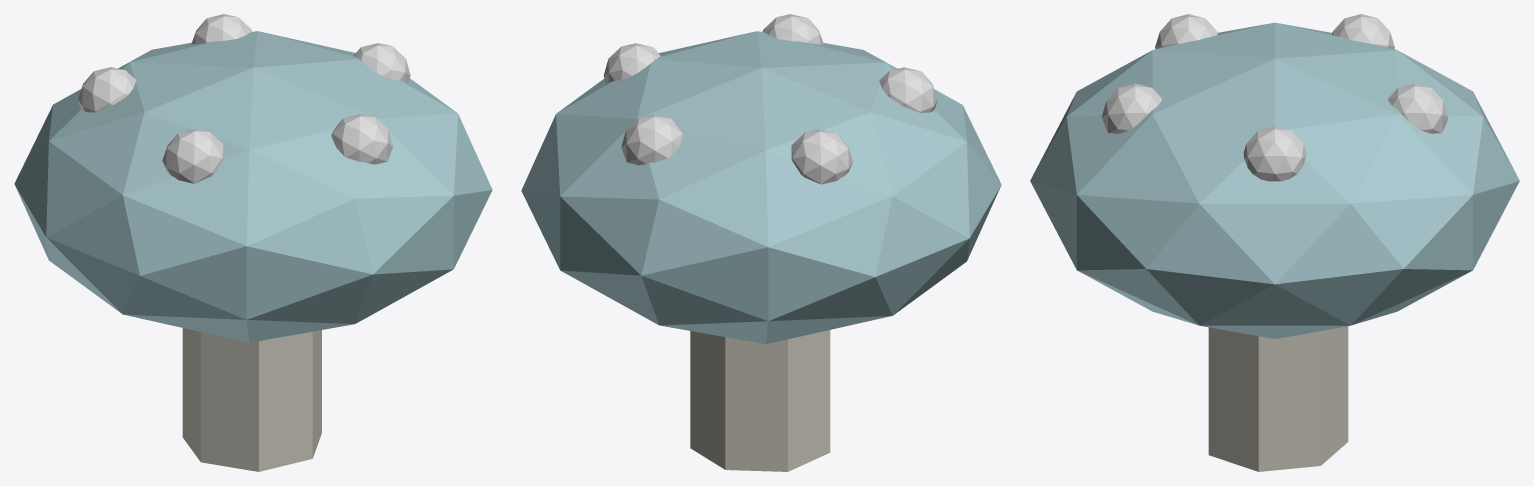
File: mushroom_blue.glb
The picture shows the model from 3 angles, left to right: view 1: azimuth 30°, elevation 25°; view 2: azimuth 150°, elevation 25°; view 3: azimuth 270°, elevation 25°; orthographic projection. The views are drawn at different scales.
Parts seen in each view (by area): view 1: Cap, Stem, Dot_2, Dot_1, Dot_3, Dot_0, Dot_4; view 2: Cap, Stem, Dot_3, Dot_4, Dot_2, Dot_0, Dot_1; view 3: Cap, Stem, Dot_0, Dot_1, Dot_4, Dot_2, Dot_3.
Boxes of the visible parts, x1,y1,x2,y2 form: Cap: (14,31,492,342); Stem: (182,328,321,471); Dot_2: (162,128,223,183); Dot_1: (331,114,392,164); Dot_3: (78,67,135,112); Dot_0: (354,43,410,82); Dot_4: (191,14,252,44); Cap: (521,31,1001,344); Stem: (690,330,830,471); Dot_3: (791,129,852,184); Dot_4: (621,114,683,165); Dot_2: (879,67,937,112); Dot_0: (603,43,660,83); Dot_1: (762,14,823,44); Cap: (1030,22,1519,338); Stem: (1208,326,1348,471); Dot_0: (1243,126,1306,181); Dot_1: (1101,83,1161,133); Dot_4: (1388,83,1448,133); Dot_2: (1155,14,1218,49); Dot_3: (1331,14,1394,49).
Size of the model in its own units: 0.8 by 0.69 by 0.8.
